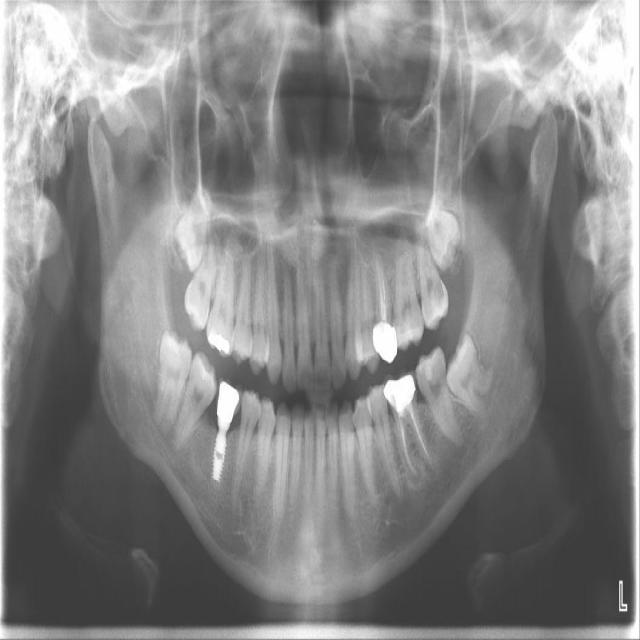3M ESPE Implant: (168, 183, 216, 274)
52: (410, 345, 454, 400), (205, 376, 248, 428), (380, 367, 423, 415), (206, 303, 235, 359), (371, 320, 399, 366)
73: (389, 402, 438, 484), (370, 252, 393, 321), (596, 575, 612, 595)
BioHorizons Implant: (417, 231, 451, 333)
BioLife Implant: (426, 209, 461, 271)
Biomet 3i Implant: (437, 330, 503, 416)
Blue Sky Bio Implant: (410, 345, 465, 453)
Caries: (179, 224, 222, 334)
Implant: (172, 349, 225, 450)
Keystone Dental Implant: (154, 329, 194, 431)
